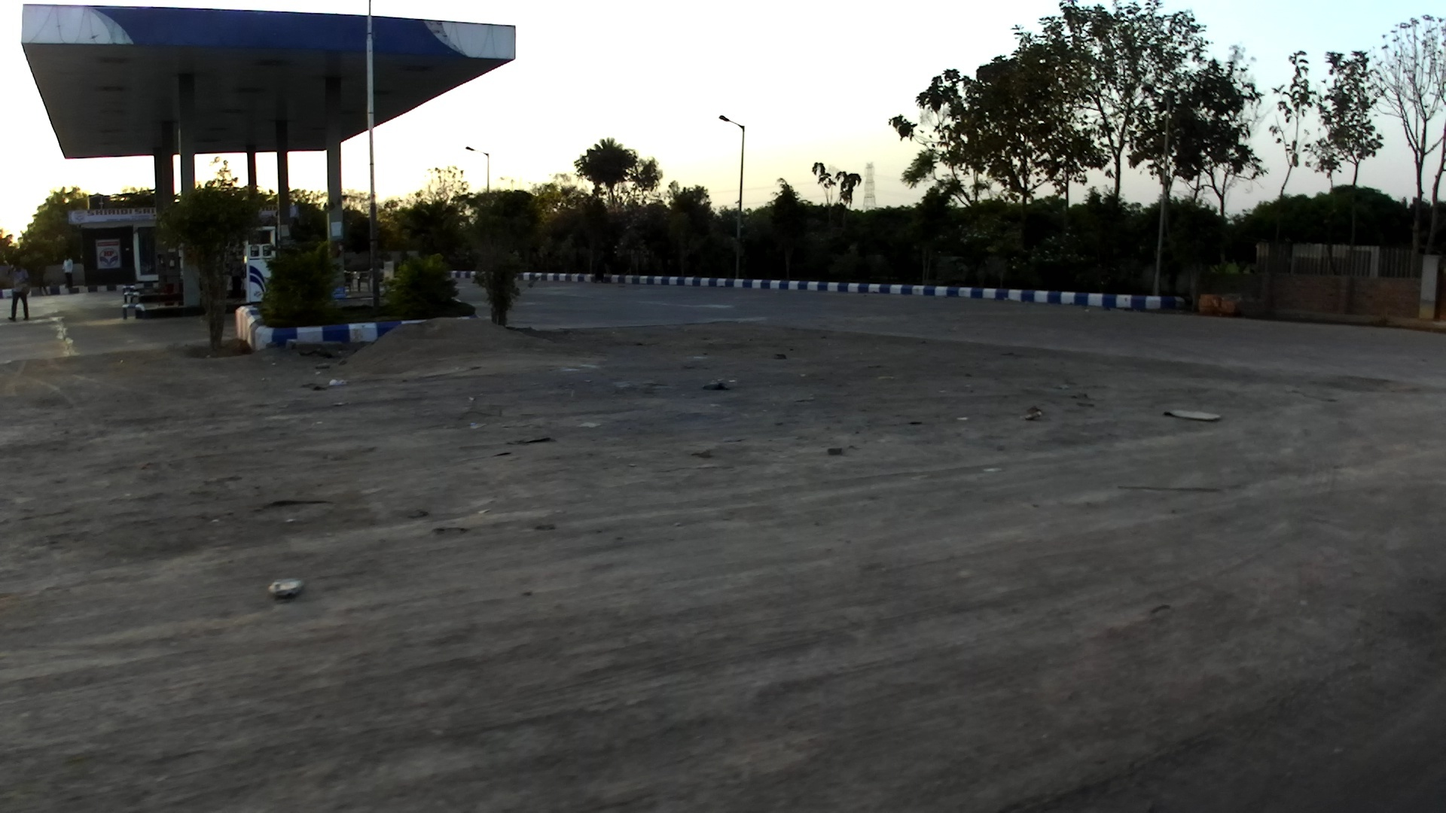person: (7, 259, 30, 322), (62, 254, 74, 288)
